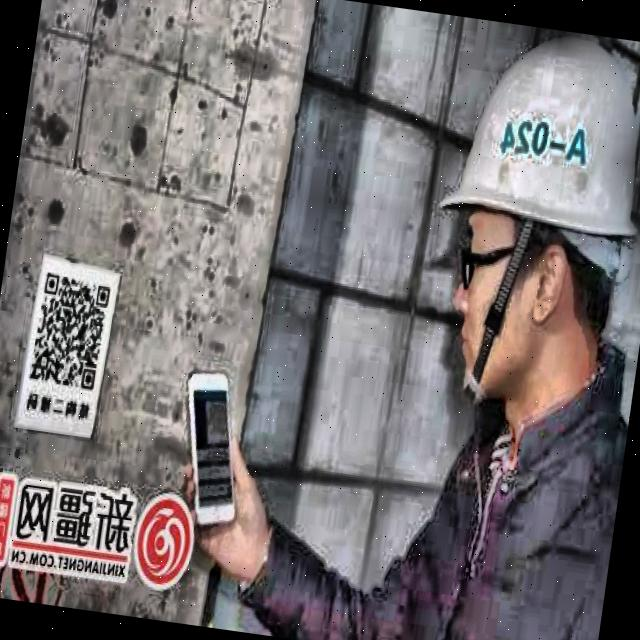helmet: (400, 16, 640, 456)
